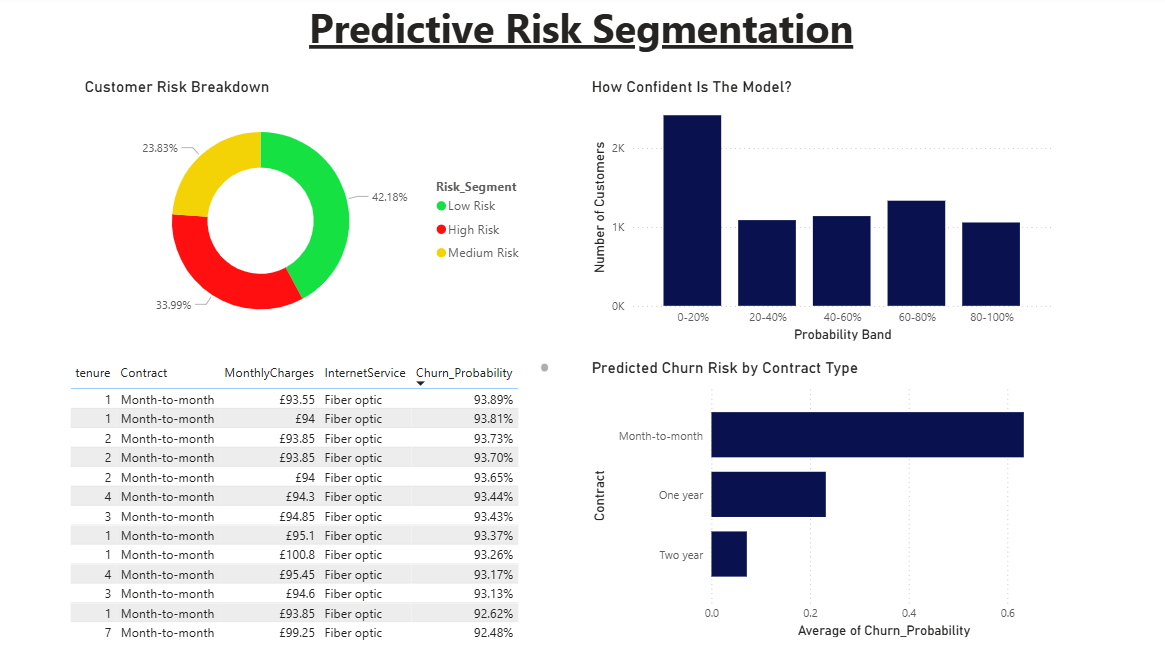

The dashboard page shown, as its layout file describes it:
{"tool":"powerbi","page":{"name":"Customer Risk Segments","canvas":[1280,720],"ordinal":1},"visuals":[{"type":"donutChart","title":"Customer Risk Breakdown","fields":{"Category":["telco_churn_with_predictions.Risk_Segment"],"Y":["feature_importance.Total Customers"]},"box":[94.5,88.8,493.2,289.1],"z":0},{"type":"clusteredColumnChart","title":"How Confident Is The Model?","fields":{"Category":["telco_churn_with_predictions.Probability Band"],"Y":["CountNonNull(telco_churn_with_predictions.Churn_Probability)"]},"box":[640.6,88.8,506.5,289.1],"z":1},{"type":"tableEx","fields":{"Values":["telco_churn_with_predictions.tenure","telco_churn_with_predictions.Contract","telco_churn_with_predictions.MonthlyCharges","telco_churn_with_predictions.InternetService","telco_churn_with_predictions.Churn_Probability"]},"box":[77.5,391.2,527.2,309.9],"z":2},{"type":"clusteredBarChart","title":"Predicted Churn Risk by Contract Type","fields":{"Category":["telco_churn_with_predictions.Contract"],"Y":["Avg(telco_churn_with_predictions.Churn_Probability)"]},"box":[640.6,391.2,519.7,306.1],"z":3},{"type":"textbox","box":[147.4,0,975.1,88.8],"z":4}]}

Visuals, with their boxes in screenshot pixels (x1, y1, x2, y2), scaled from the page's 1280x720 canvas onto the 1165x649 screenshot:
"Customer Risk Breakdown" donutChart: {"left": 86, "top": 80, "right": 535, "bottom": 341}
"How Confident Is The Model?" clusteredColumnChart: {"left": 583, "top": 80, "right": 1044, "bottom": 341}
tableEx - telco_churn_with_predictions.tenure x telco_churn_with_predictions.Contract: {"left": 71, "top": 353, "right": 550, "bottom": 632}
"Predicted Churn Risk by Contract Type" clusteredBarChart: {"left": 583, "top": 353, "right": 1056, "bottom": 629}
textbox: {"left": 134, "top": 0, "right": 1022, "bottom": 80}
